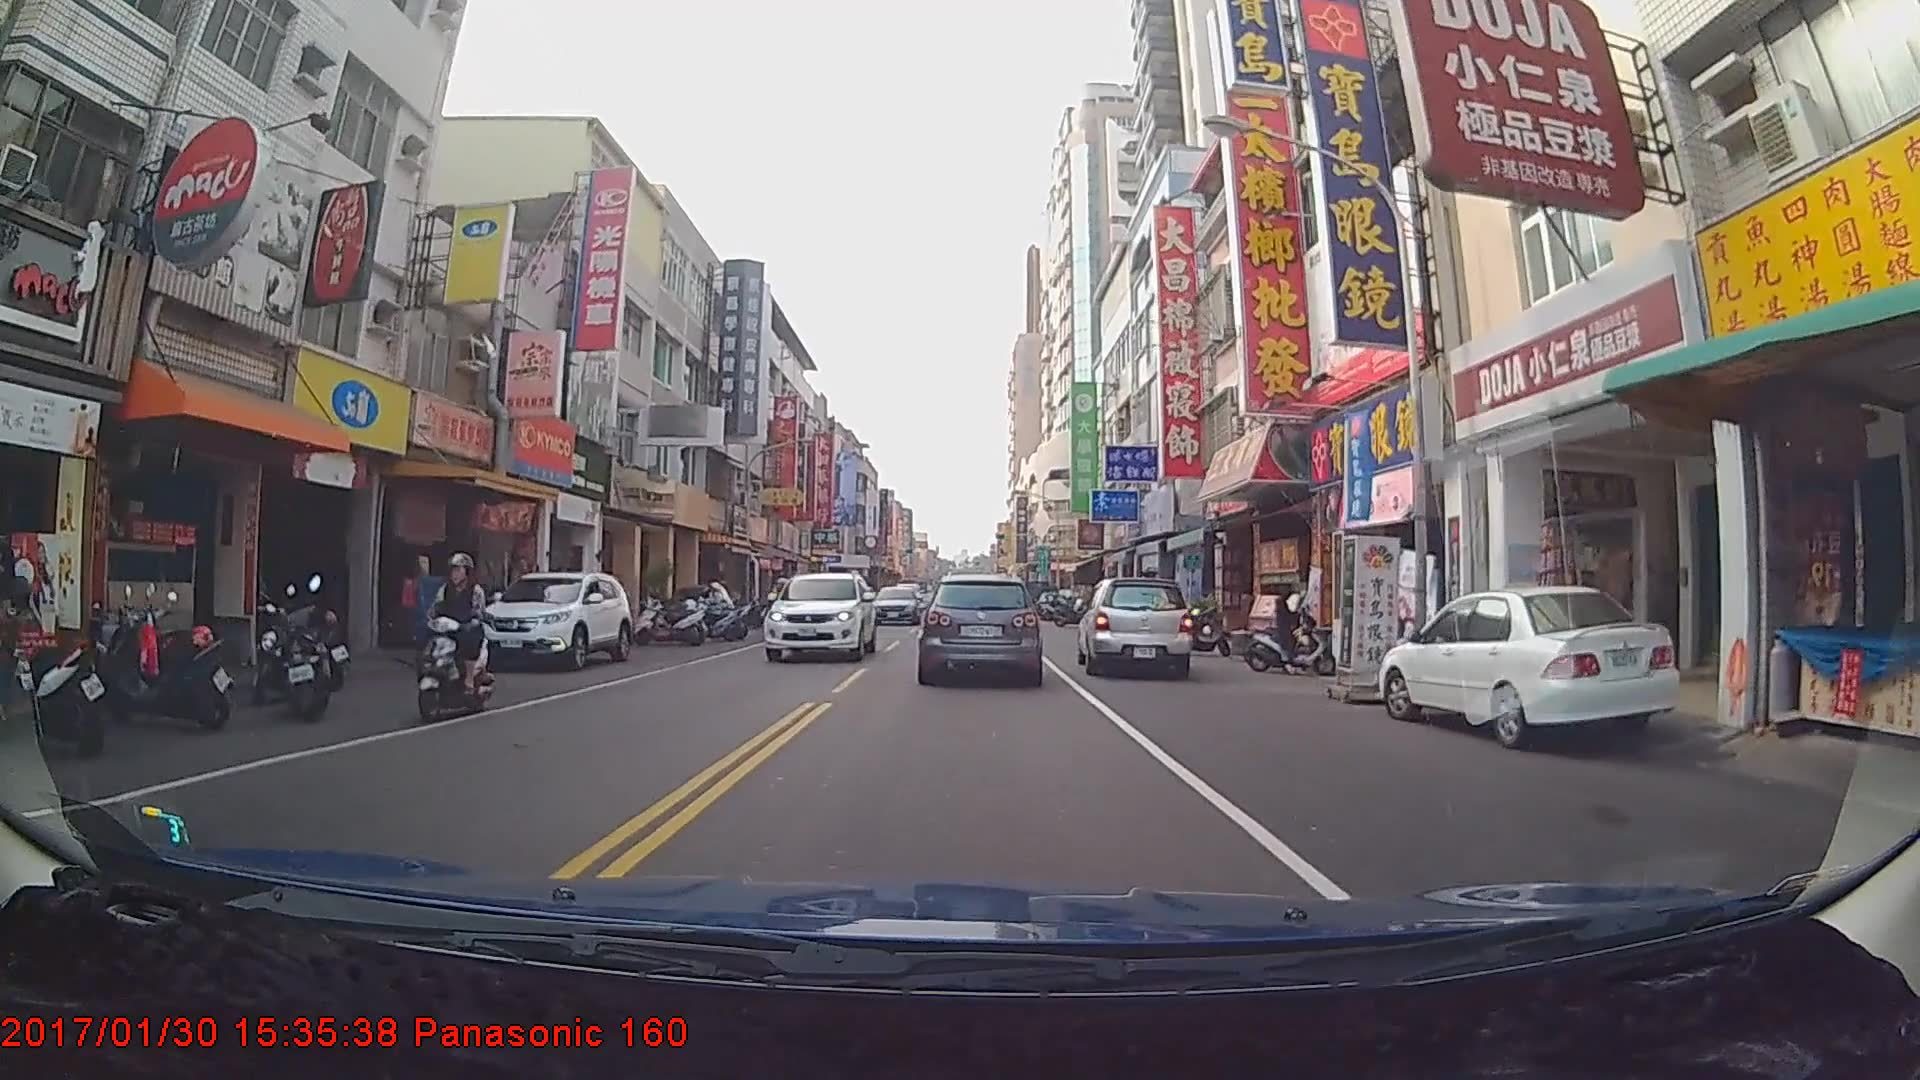rider: (415, 555, 499, 728), (1242, 578, 1342, 679)
vehicle: (1376, 588, 1684, 743), (468, 571, 630, 673), (920, 573, 1041, 683), (1077, 574, 1191, 679), (764, 569, 877, 661), (866, 583, 919, 624)
